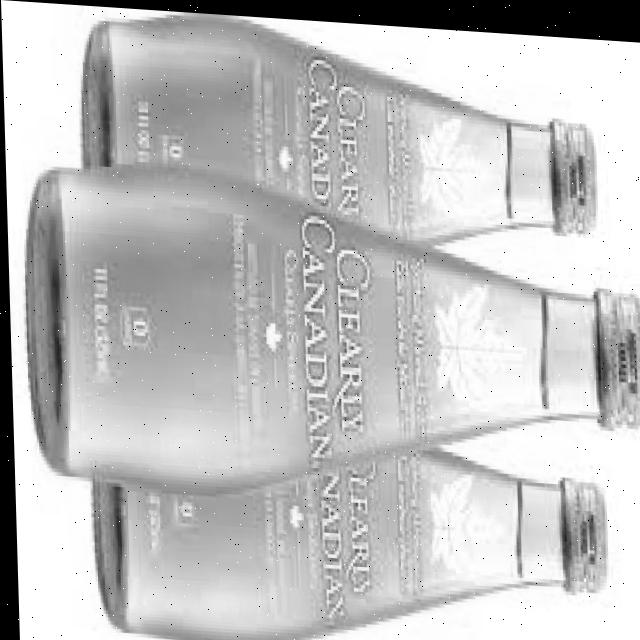bottle: (12, 65, 640, 640)
